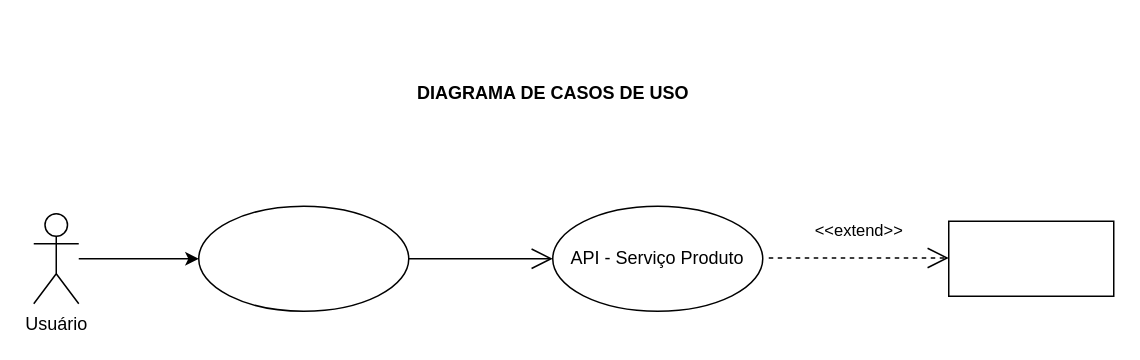
Some shapes in this 1140 by 360 pixel diagram are drawn without their labels. The shapes that lost their labels are listed below. From the top down, each one's box as (x1, y1, x2, y2) in pixels, then its label:
(197, 205, 409, 311): Manter Produto
(947, 220, 1114, 296): BD
